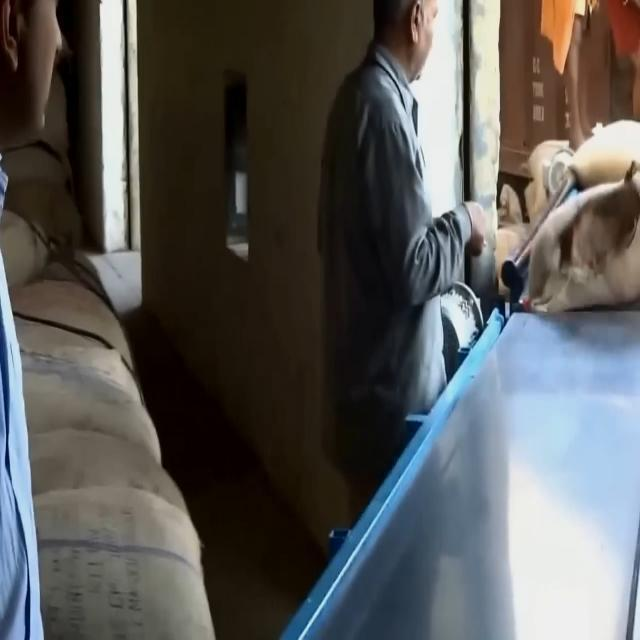gunny_bag: (30, 486, 216, 638), (518, 170, 640, 317), (568, 115, 640, 182)
